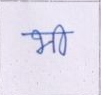i_matra: (55, 24, 67, 54)
